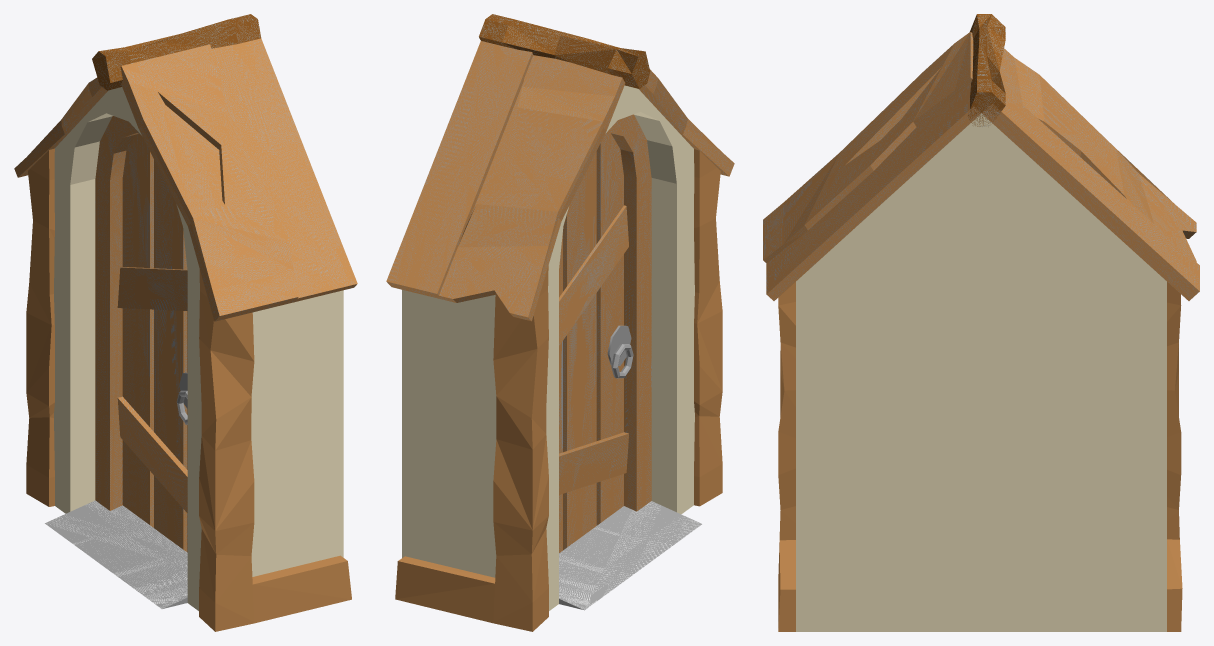
Rendered from Door.fbx.
3 views of the same model, side by side, from view 1: azimuth 30°, elevation 25°; view 2: azimuth 150°, elevation 25°; view 3: azimuth 270°, elevation 25° (orthographic). The views are drawn at different scales.
Parts seen in each view (by area): view 1: G_76_1, G_74_1, Door1, Stolb2_1, Stolb2_2, Porog1, Group3, Konek2_1; view 2: G_74_1, G_76_1, Door1, Stolb2_2, Stolb2_1, Porog1, Konek2_1, Group2, handleMain1, Handle1; view 3: G_74_1, G_76_1, Stolb2_1, Konek2_1, Stolb2_2, Group3, Group2.
Part boxes in pixels (x1,y1,x2,y2): G_76_1: (14, 38, 357, 512); G_74_1: (54, 87, 343, 610); Door1: (95, 116, 187, 552); Stolb2_1: (199, 269, 254, 631); Stolb2_2: (26, 148, 54, 506); Porog1: (45, 500, 187, 608); Group3: (252, 555, 351, 623); Konek2_1: (92, 14, 261, 90); G_74_1: (402, 85, 694, 610); G_76_1: (386, 41, 734, 494); Door1: (559, 114, 651, 552); Stolb2_2: (493, 265, 548, 631); Stolb2_1: (694, 149, 722, 506); Porog1: (559, 501, 701, 610); Konek2_1: (479, 14, 650, 88); Group2: (395, 556, 495, 623); handleMain1: (607, 325, 631, 365); Handle1: (611, 344, 633, 378); G_74_1: (796, 113, 1166, 631); G_76_1: (763, 32, 1199, 300); Stolb2_1: (778, 282, 795, 574); Konek2_1: (967, 14, 1005, 126); Stolb2_2: (1167, 282, 1181, 539); Group3: (778, 540, 795, 631); Group2: (1167, 539, 1182, 631).
Size of the model in its own units: 601 by 1925 by 1412.
